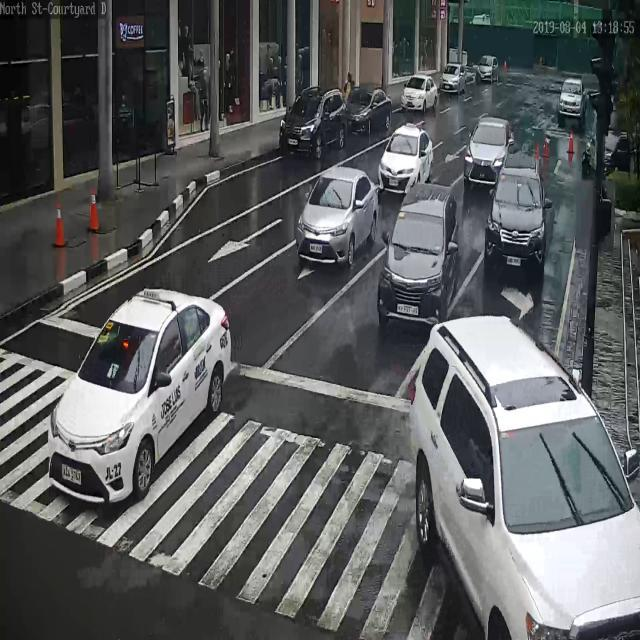car: (408, 314, 640, 639), (47, 287, 233, 503), (380, 194, 460, 326), (296, 165, 380, 269), (484, 168, 546, 277), (278, 85, 348, 157), (378, 126, 433, 192), (465, 115, 512, 185), (582, 128, 633, 178), (344, 87, 393, 135), (399, 73, 439, 114), (559, 77, 587, 121), (441, 62, 467, 93), (476, 54, 499, 83)
